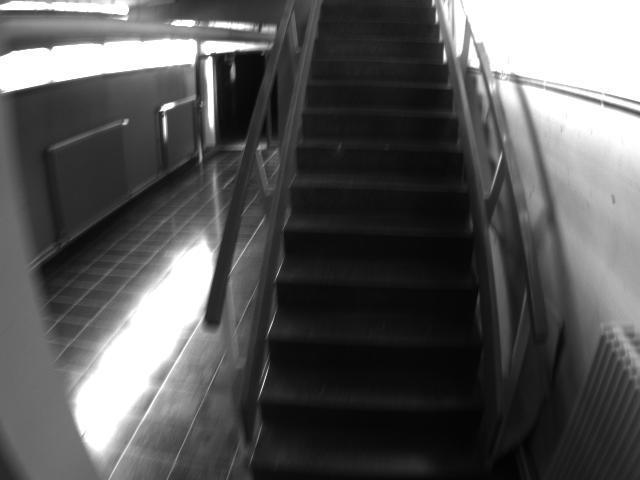Escaleras: (272, 22, 478, 479)
